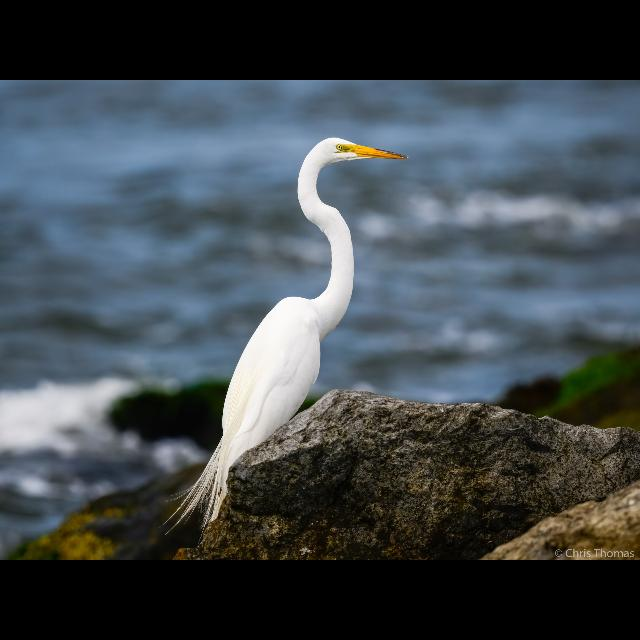egret: (158, 132, 412, 536)
